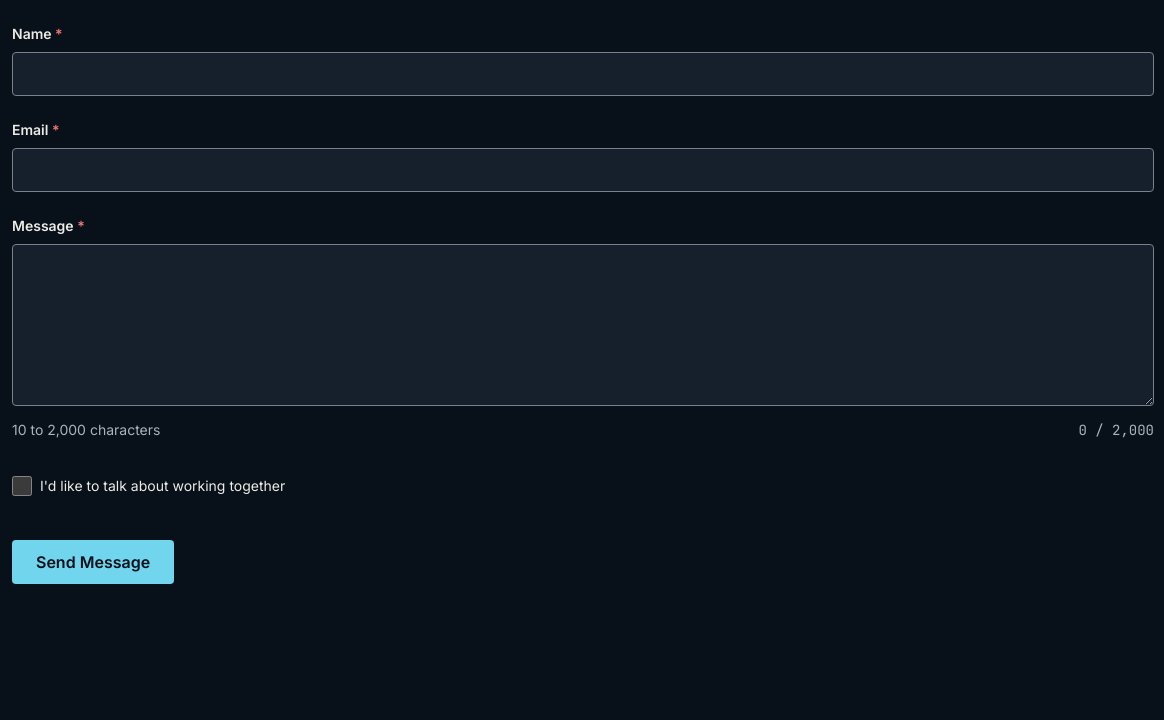
Test: SummitRegister › submits form successfully and signs the register with the visitor's own words
The image size is (1164, 720).
Type "John Doe" into the field labelled "Name *".
click(583, 74); type("John Doe")  # box [12, 52, 1154, 96]
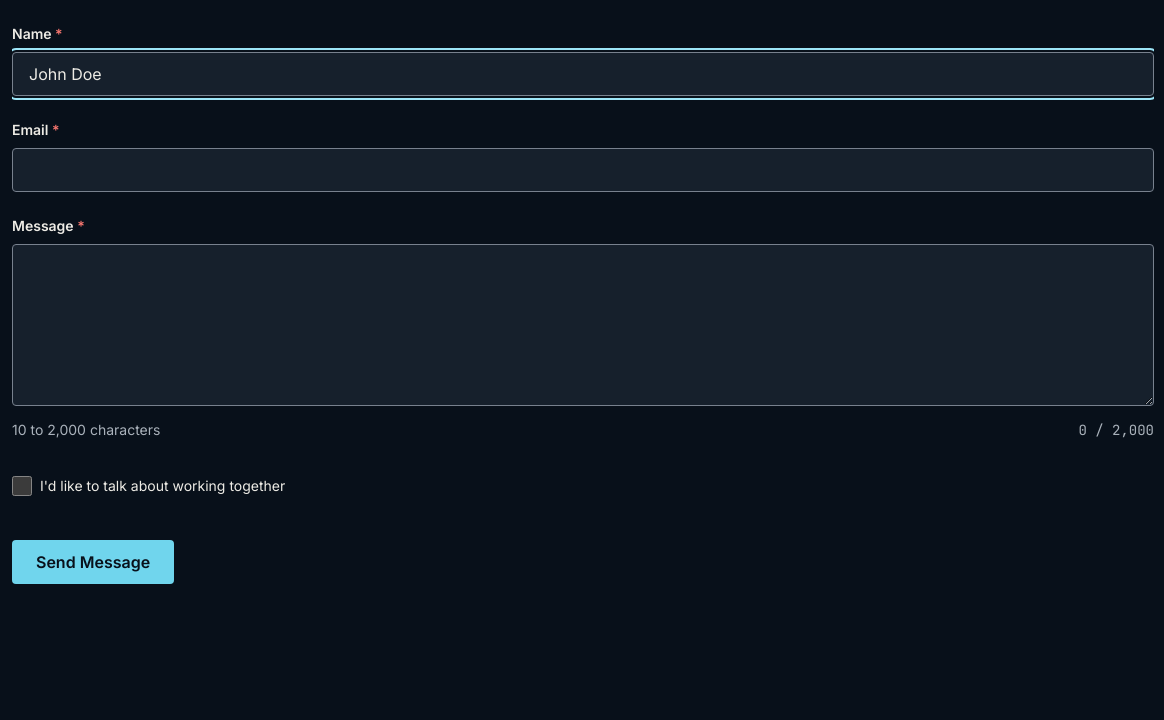
Type "john@example.com" into the field labelled "Email *".
click(583, 170); type("john@example.com")  # box [12, 148, 1154, 192]
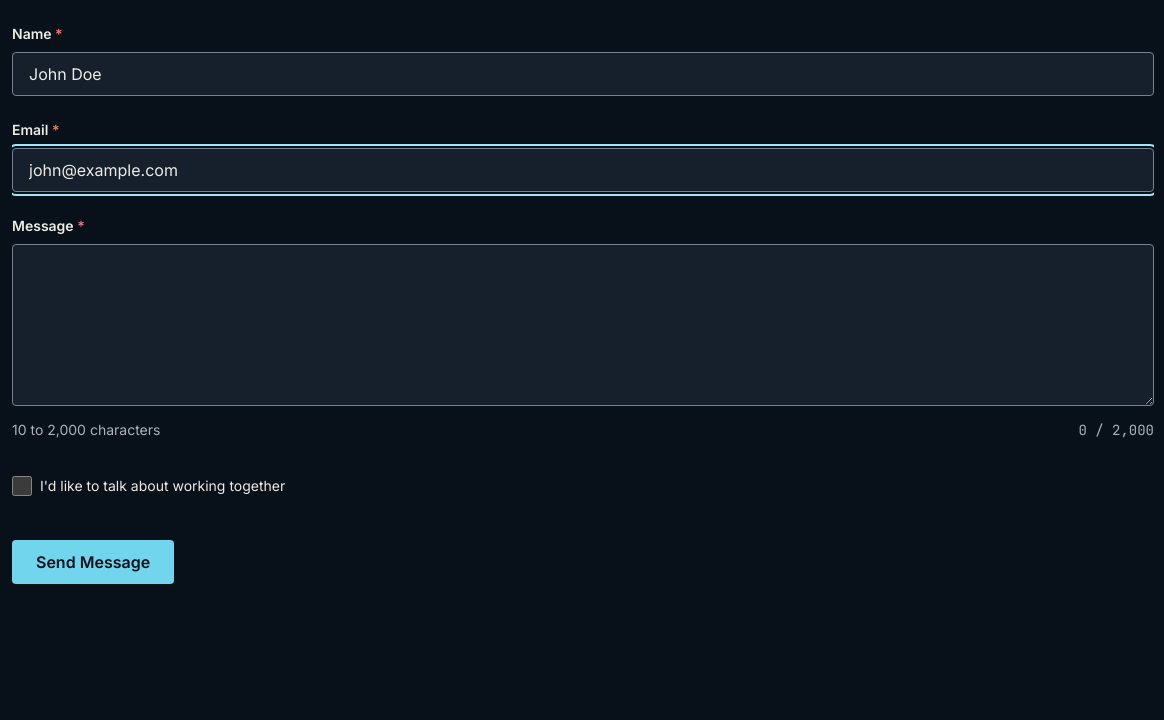
Type "This is a test message that is long enough." into the text box labelled "Message *".
click(583, 325); type("This is a test message that is long enough.")  # box [12, 244, 1154, 406]
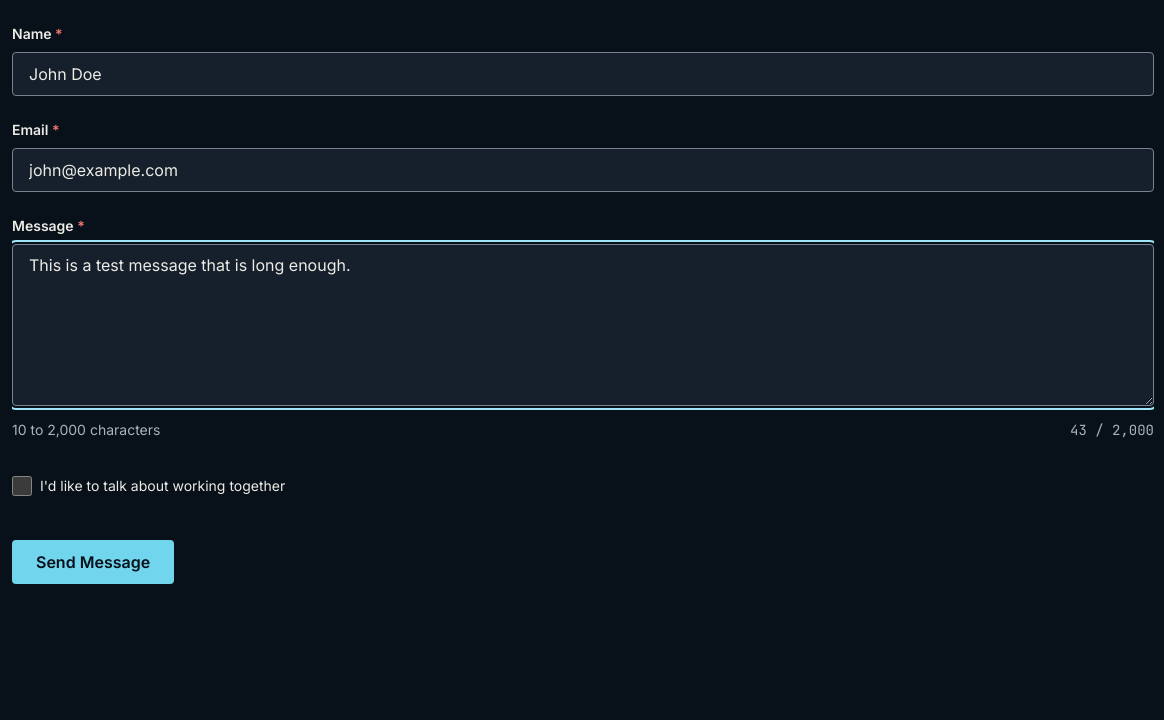
Click the button "Send Message".
click(93, 562)  # box [12, 540, 174, 584]
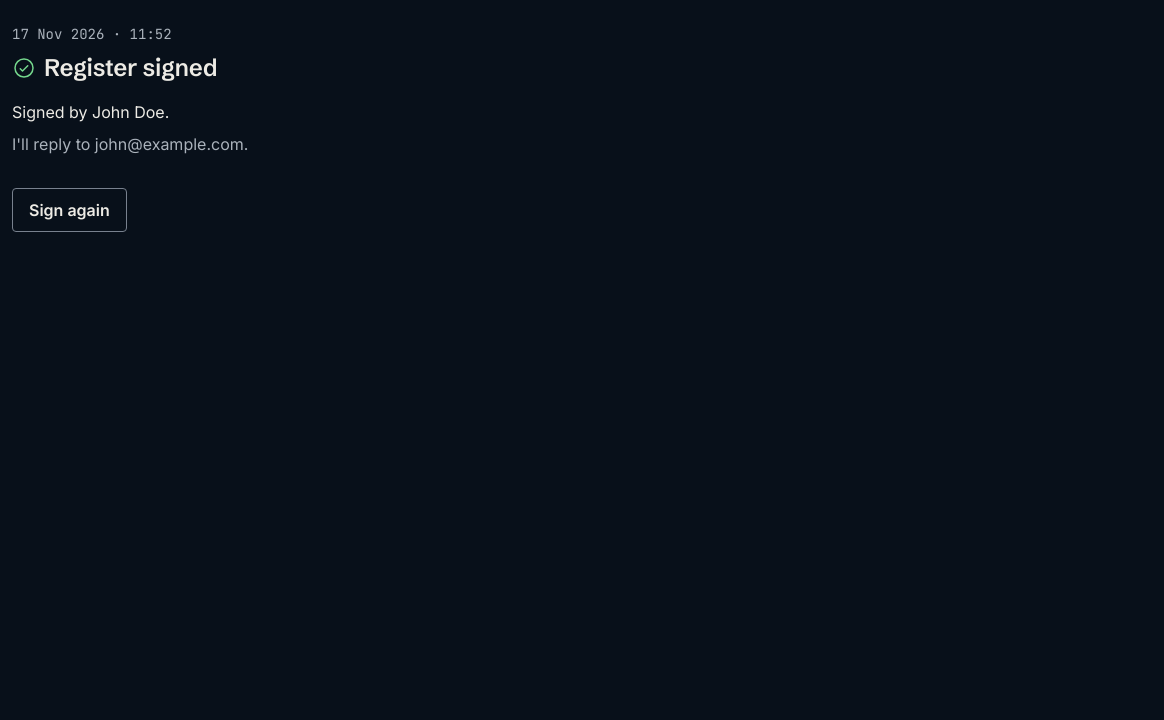
expect the text "Register signed" is shown: met, box [44, 53, 217, 82]
expect the text "Register signed" shows "Signed by John Doe.": met, box [12, 25, 248, 232]
expect the text "Register signed" shows "I'll reply to john@example.com.": met, box [12, 25, 248, 232]
